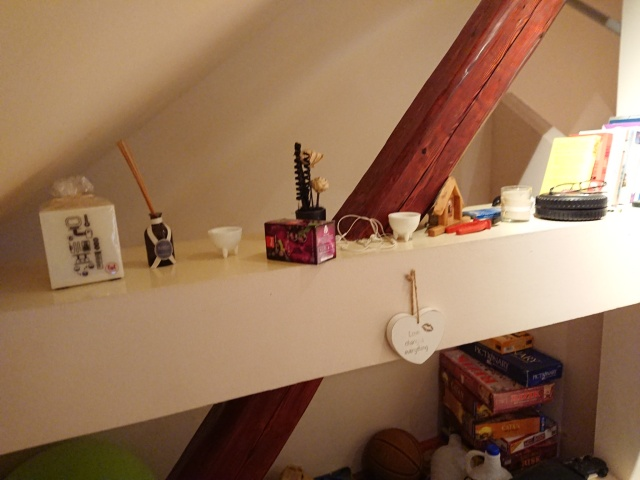Franck Black Currant Tea 60g: (261, 215, 338, 267)
